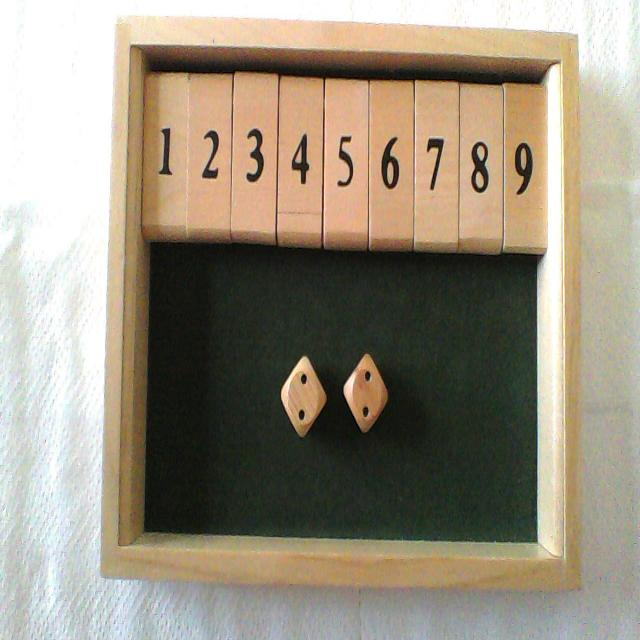2: (278, 350, 329, 442), (341, 348, 390, 436)
C1: (144, 17, 187, 242)
C2: (188, 17, 230, 242)
C3: (235, 18, 277, 244)
C4: (279, 20, 323, 247)
C5: (324, 22, 368, 250)
C6: (370, 23, 411, 250)
C7: (416, 24, 457, 250)
C8: (462, 27, 500, 254)
C9: (506, 29, 547, 255)
